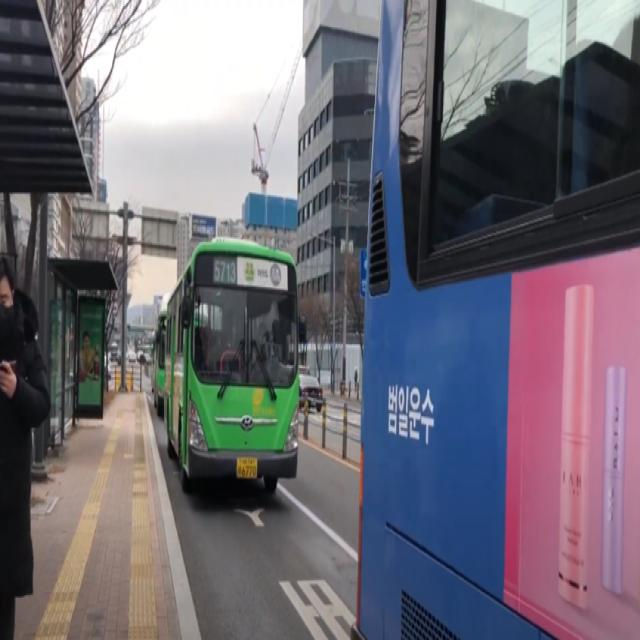bus-number: (214, 257, 236, 286)
